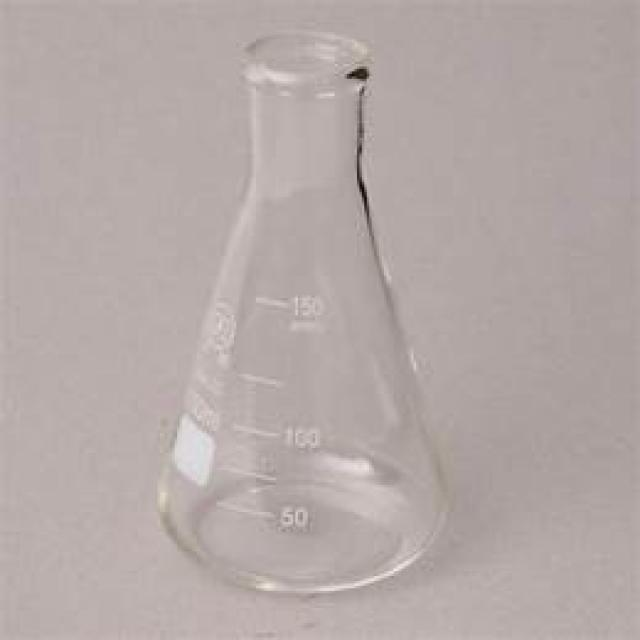Titrarion: (144, 35, 458, 593)
